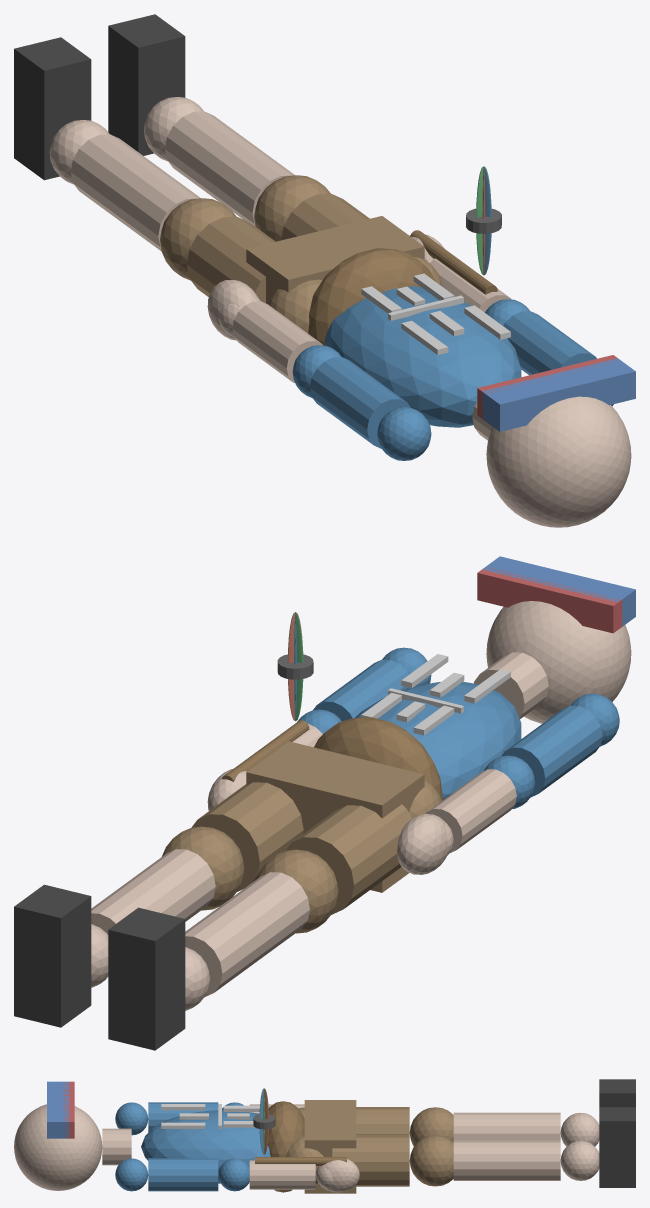
Rendered from windman.glb.
The picture shows the model from 3 angles, top to bottom: view 1: azimuth 30°, elevation 25°; view 2: azimuth 150°, elevation 25°; view 3: azimuth 270°, elevation 25°; orthographic projection. The views are drawn at different scales.
Visible parts, largest first — view 1: world; view 2: world; view 3: world.
Boxes of the visible parts, x1,y1,x2,y2 form: world: (14, 14, 635, 527); world: (14, 556, 635, 1050); world: (14, 1079, 635, 1193).
Bounding box in the file's own units: 0.45 × 0.385 × 1.69.
